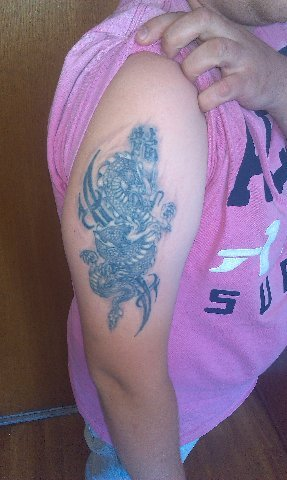tatu6_drakon: (73, 124, 179, 345)
